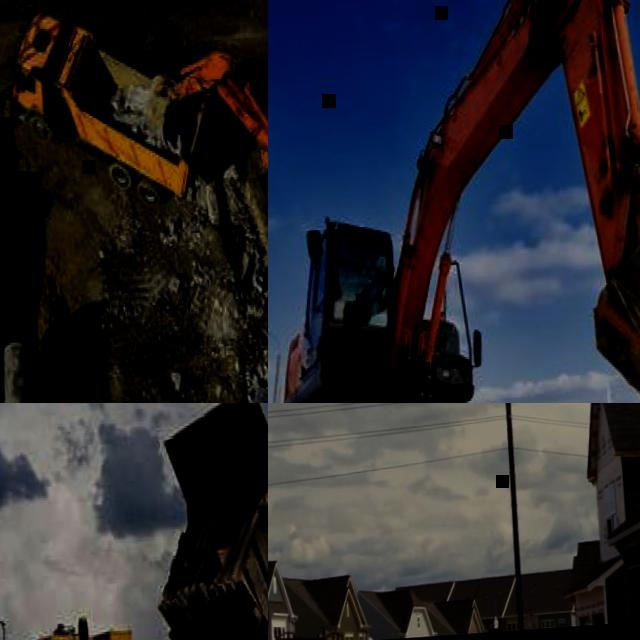machinery: (268, 0, 640, 403), (0, 403, 268, 640), (3, 0, 219, 221), (140, 36, 268, 327)
